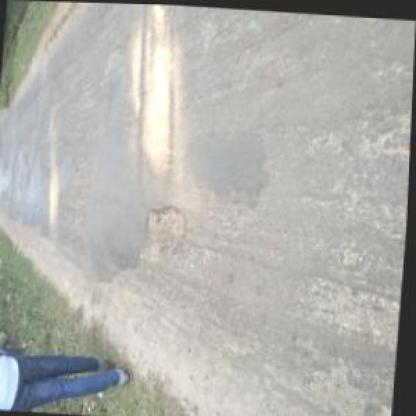pothole: (142, 200, 194, 260)
